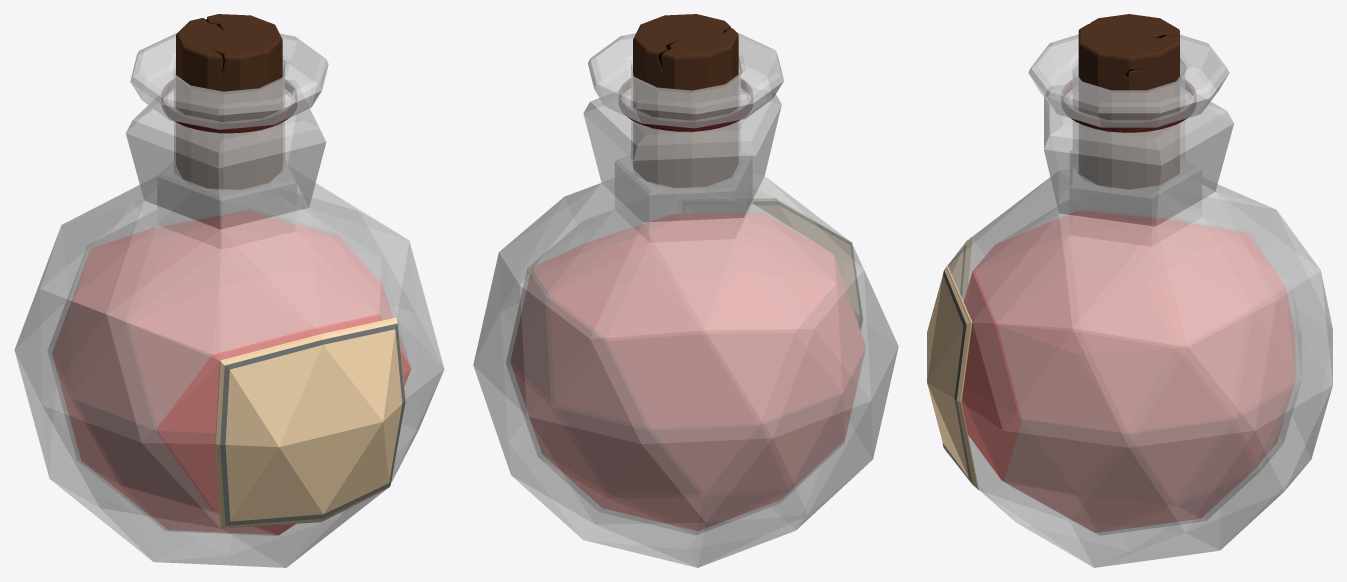
File: бутылки1.fbx
The picture shows the model from 3 angles, left to right: view 1: azimuth 30°, elevation 25°; view 2: azimuth 150°, elevation 25°; view 3: azimuth 270°, elevation 25°; orthographic projection.
Visible parts, largest first — view 1: бутылка; view 2: бутылка; view 3: бутылка.
Boxes of the visible parts, x1=… form: бутылка: x1=14, y1=14, x2=444, y2=567; бутылка: x1=473, y1=14, x2=898, y2=567; бутылка: x1=927, y1=14, x2=1332, y2=567.
Bounding box in the file's own units: 223 × 296 × 211.
